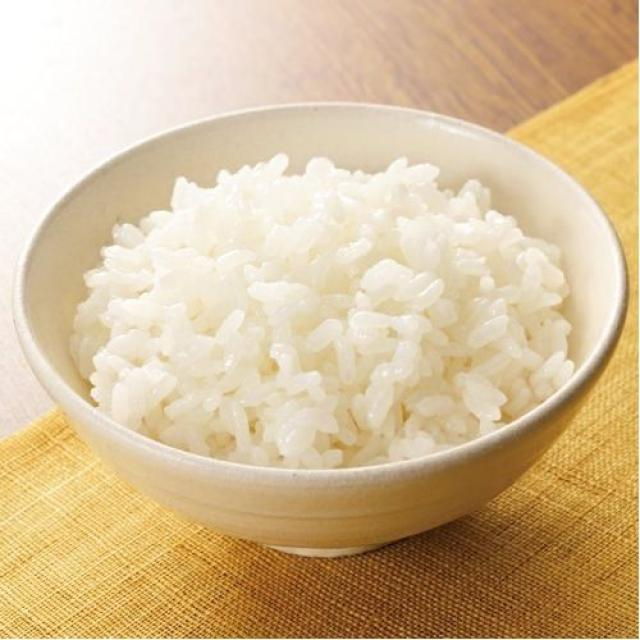nasi_putih: (81, 148, 574, 470)
